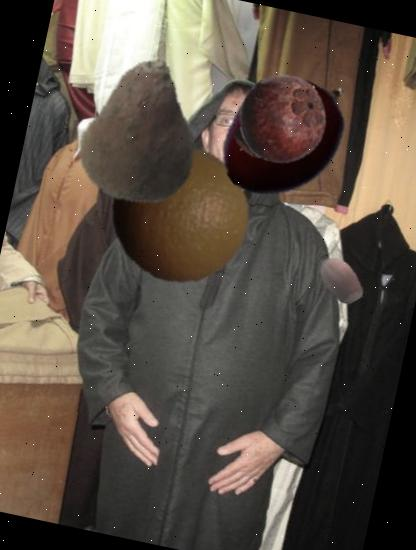Hazelnut: (309, 248, 371, 310)
Mangostan: (222, 64, 338, 180)
Orange: (94, 128, 262, 296)
Potato: (58, 44, 236, 222)
Tamarillo: (200, 50, 372, 220)
